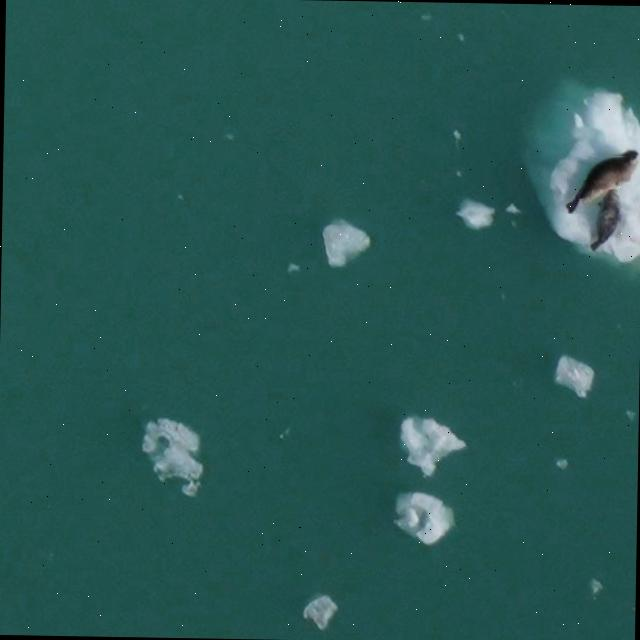seal: (567, 156, 636, 213), (591, 189, 619, 250)
